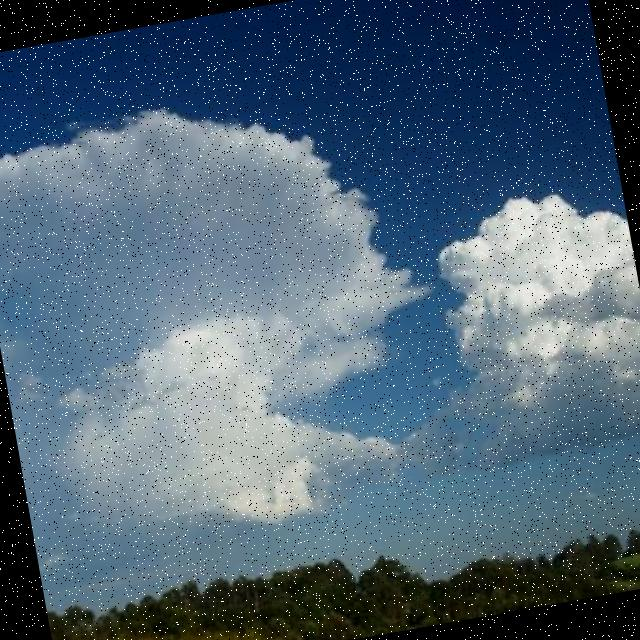Cb: (1, 15, 640, 485)
